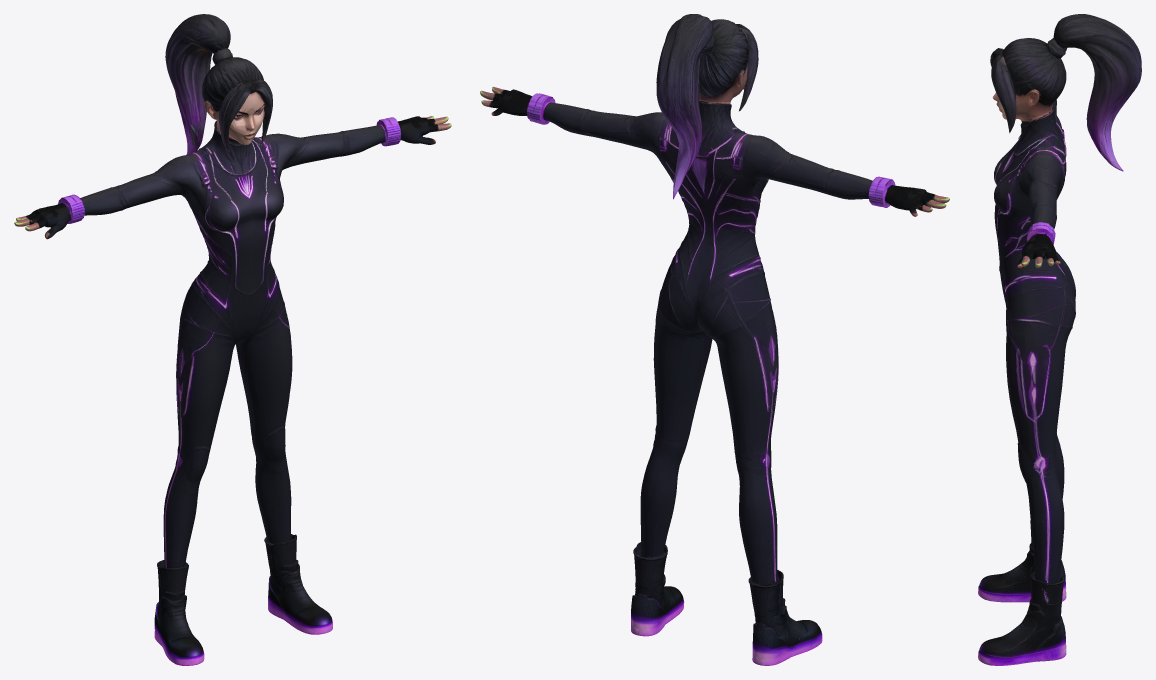
File: oracle-council-mesh.glb
3 renders of one model, left to right at view 1: azimuth 30°, elevation 25°; view 2: azimuth 150°, elevation 25°; view 3: azimuth 270°, elevation 25°, orthographic. The views are drawn at different scales.
Visible parts, largest first — view 1: Mesh_0; view 2: Mesh_0; view 3: Mesh_0.
Part boxes in pixels (x1=…): Mesh_0: x1=14, y1=14, x2=451, y2=665; Mesh_0: x1=480, y1=14, x2=949, y2=665; Mesh_0: x1=978, y1=14, x2=1141, y2=665.
Size of the model in its own units: 1.45 by 1.9 by 0.462.
Materials: 1 (1 with a texture image).
